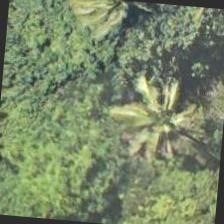Kelapa_Sawit: (107, 63, 205, 161), (63, 0, 158, 50)
